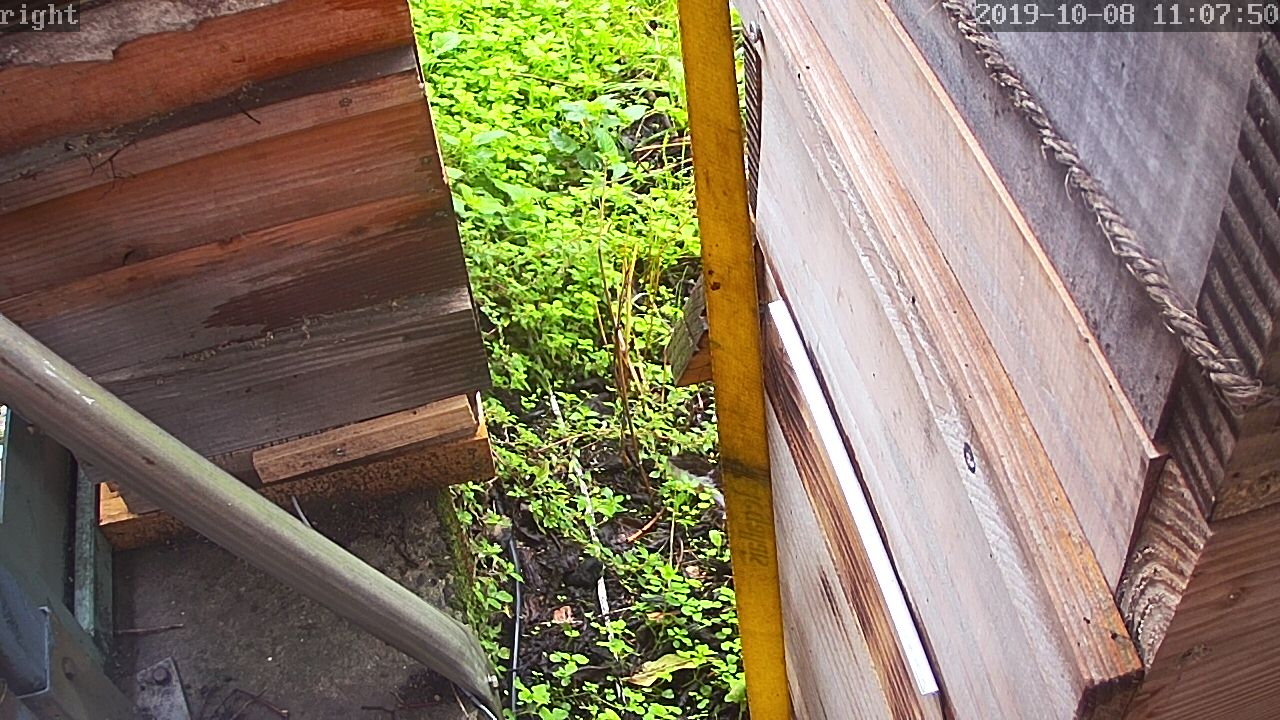hornet: (706, 533, 736, 596)
